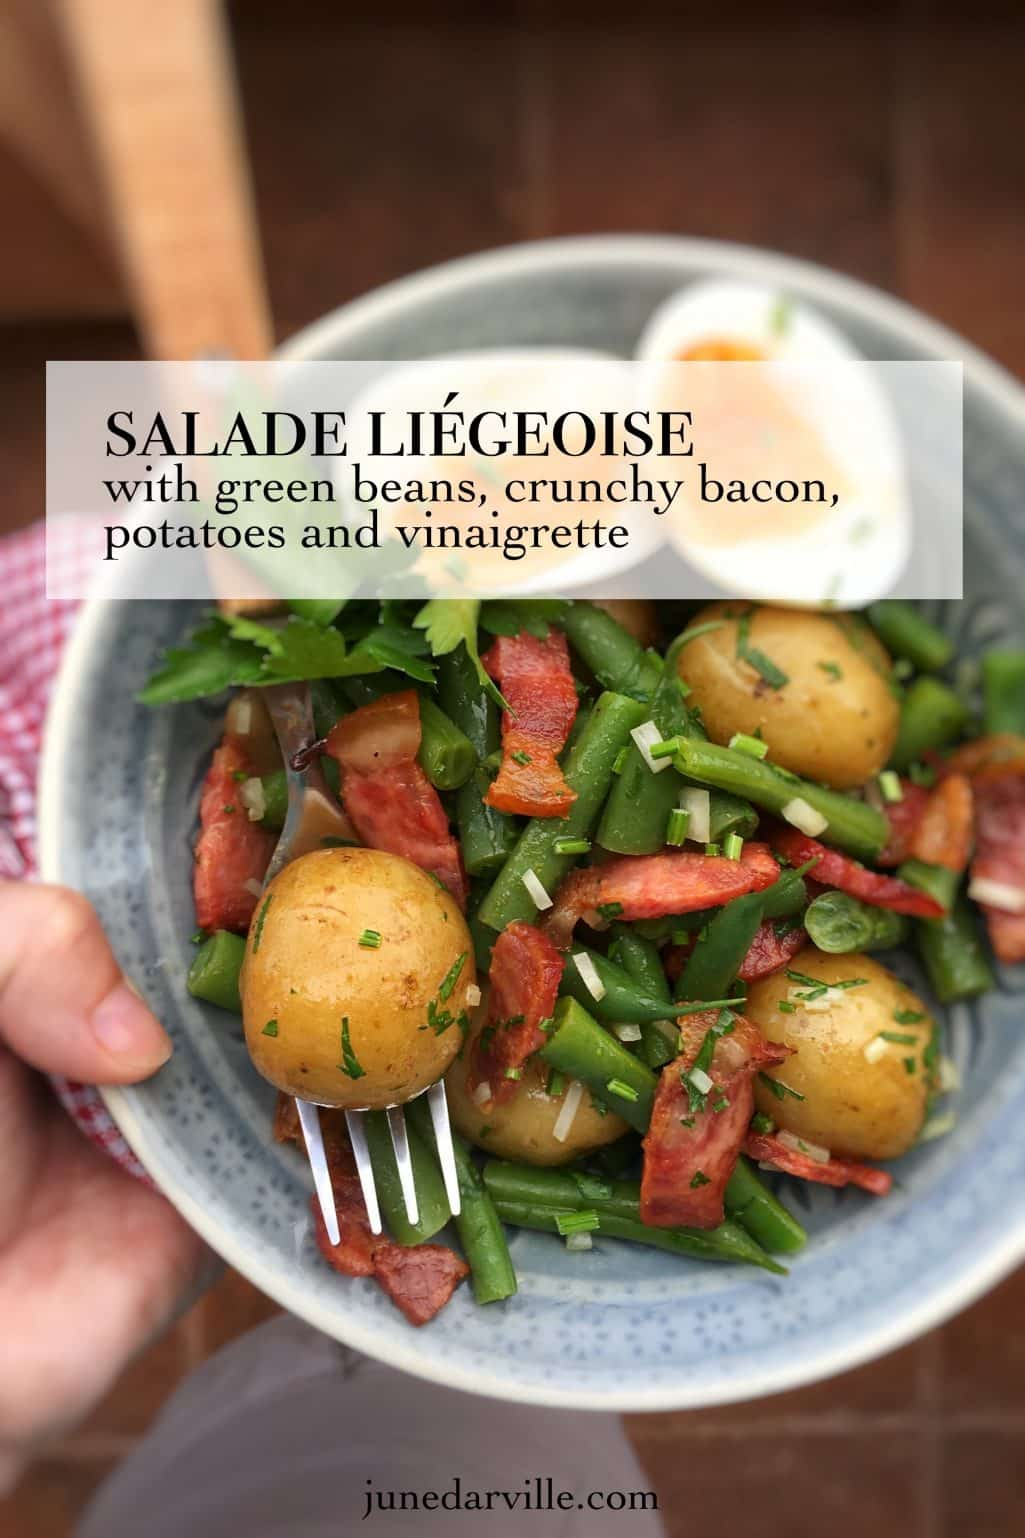boiled peas: (493, 630, 683, 909)
boiled potatoes: (247, 860, 470, 1101), (676, 599, 901, 783), (750, 953, 930, 1184)
